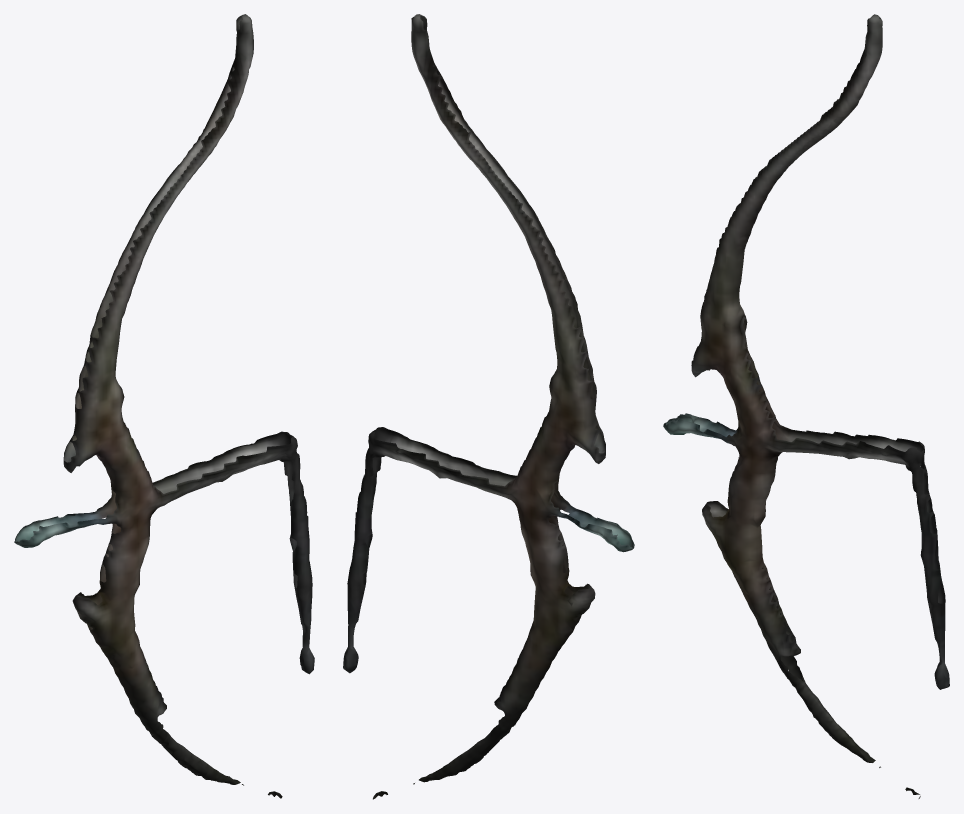
File: longbow.glb
3 views of the same model, side by side, from view 1: azimuth 30°, elevation 25°; view 2: azimuth 150°, elevation 25°; view 3: azimuth 330°, elevation 25° (orthographic). The views are drawn at different scales.
Parts seen in each view (by area): view 1: geometry_0; view 2: geometry_0; view 3: geometry_0.
Boxes of the visible parts, box(x1,y1,x2,y2) form: geometry_0: box(14, 14, 314, 798); geometry_0: box(343, 14, 634, 799); geometry_0: box(663, 14, 949, 798).
Size of the model in its own units: 0.3803 by 0.9782 by 0.0566.
1 material, 1 textured.
